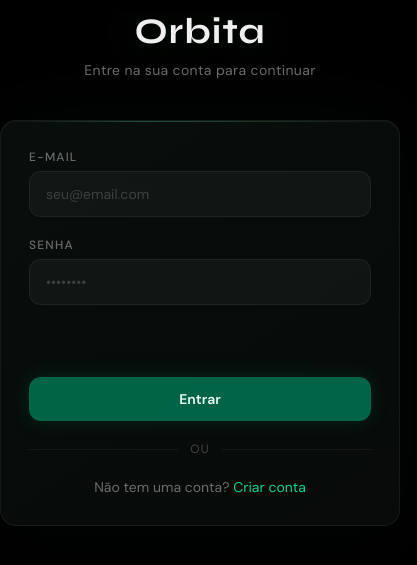
Scenario: LoginPage › shows validation error for short password
Type "test@email.com" into the field labelled "E-mail". click: (200, 194)
box: [29, 171, 371, 217]
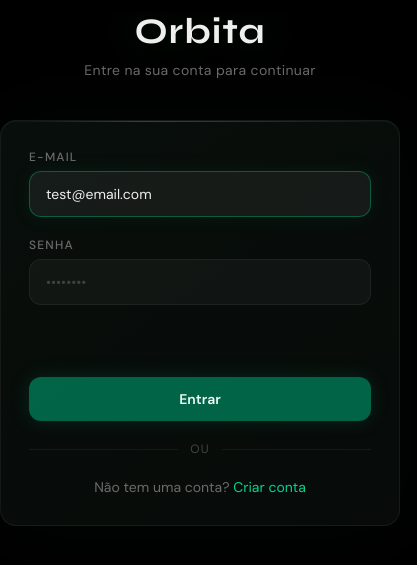
Type "123" into the password field labelled "Senha". click: (200, 282)
box: [29, 259, 371, 305]
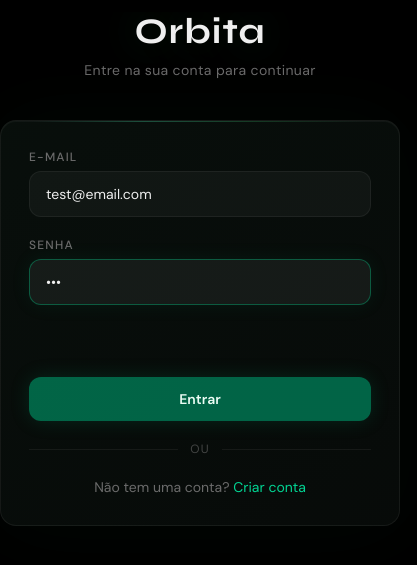
Click the button "Entrar". click: (200, 399)
box: [29, 377, 371, 421]
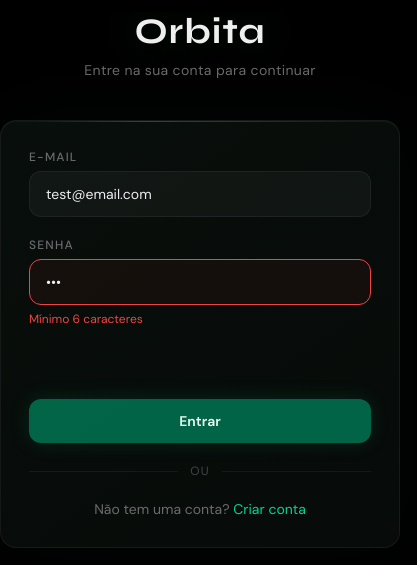
Expected: the text "Mínimo 6 caracteres" is shown, [29, 311, 143, 327]
